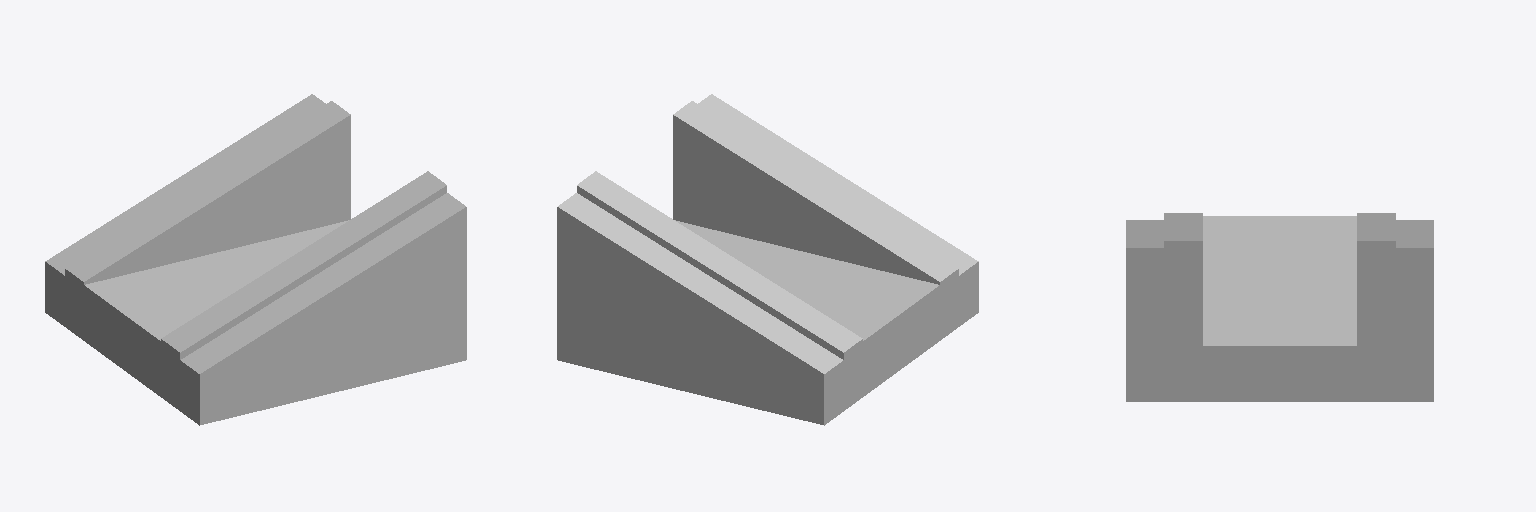
Rendered from tile205.obj.
3 views of the same model, side by side, from view 1: azimuth 30°, elevation 25°; view 2: azimuth 150°, elevation 25°; view 3: azimuth 270°, elevation 25° (orthographic).
Visible parts, largest first — view 1: tile205; view 2: tile205; view 3: tile205.
Part boxes in pixels (bbox=[...]): tile205: bbox=[45, 94, 466, 425]; tile205: bbox=[557, 94, 978, 425]; tile205: bbox=[1126, 213, 1433, 401].
Bounding box in the file's own units: 1 × 0.5767 × 1.